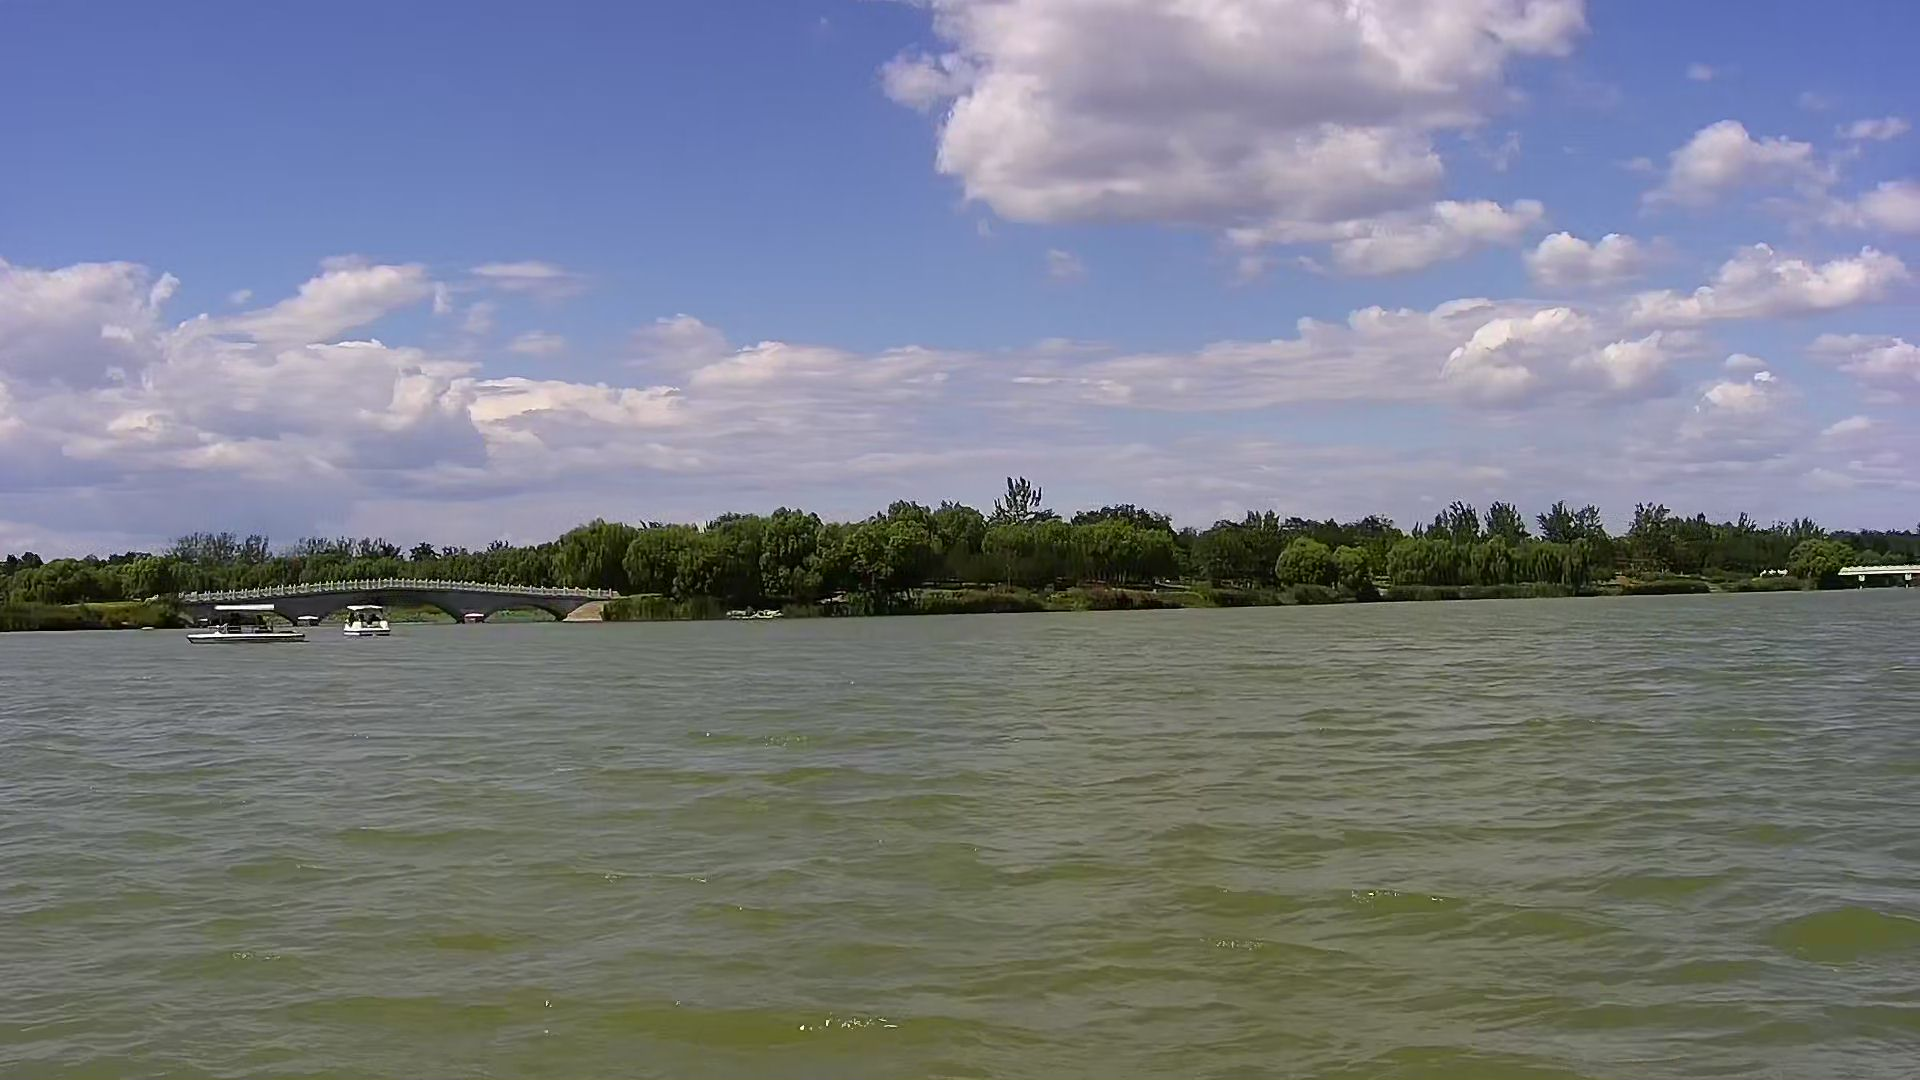boat: (187, 604, 316, 655), (343, 603, 396, 644)
bridge: (183, 582, 609, 626)
